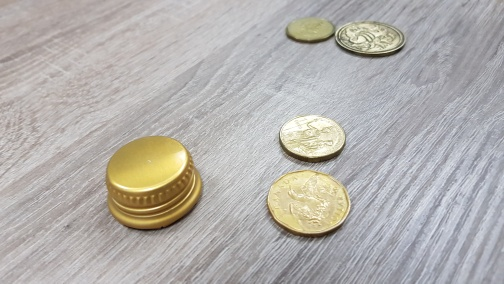coin: (266, 169, 352, 237), (278, 114, 347, 163), (335, 20, 407, 58), (285, 17, 337, 43)
